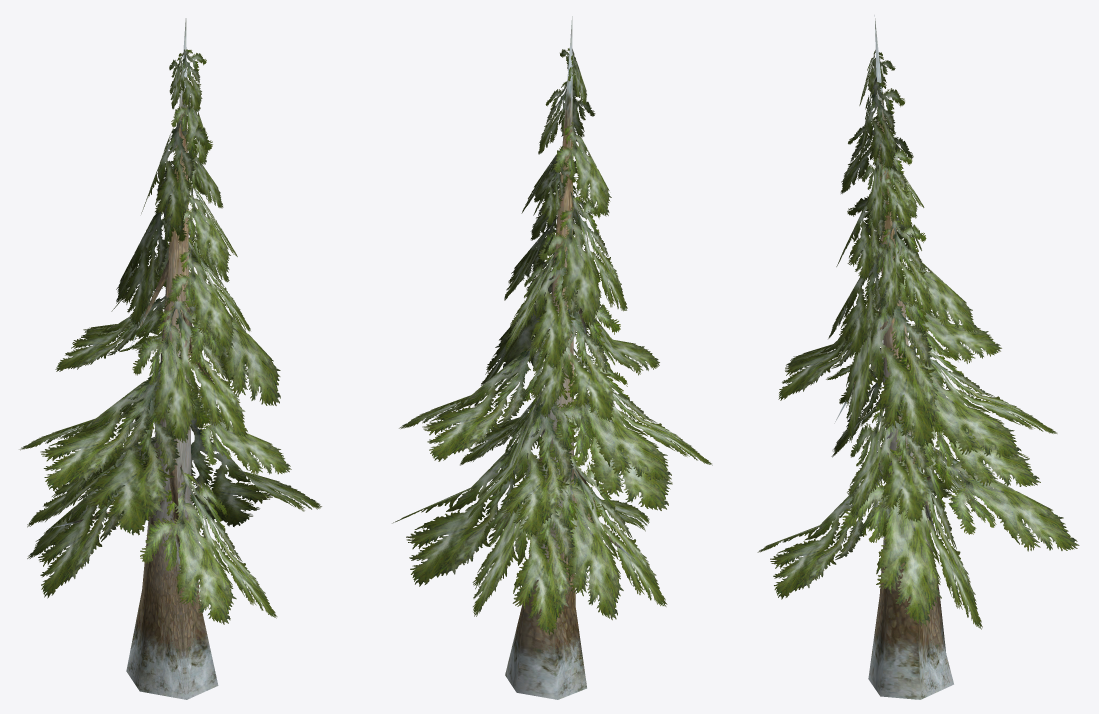
File: environment_Tree_xuesong_001_b.FBX
3 renders of one model, left to right at view 1: azimuth 30°, elevation 25°; view 2: azimuth 150°, elevation 25°; view 3: azimuth 270°, elevation 25°, orthographic. The views are drawn at different scales.
Parts seen in each view (by area): view 1: environment_Tree_xuesong_001_a, environment_Tree_xuesong_001_b; view 2: environment_Tree_xuesong_001_a, environment_Tree_xuesong_001_b; view 3: environment_Tree_xuesong_001_a, environment_Tree_xuesong_001_b.
Boxes of the visible parts, x1,y1,x2,y2 form: environment_Tree_xuesong_001_a: [19, 49, 321, 624]; environment_Tree_xuesong_001_b: [49, 18, 218, 699]; environment_Tree_xuesong_001_a: [392, 48, 712, 635]; environment_Tree_xuesong_001_b: [496, 16, 635, 699]; environment_Tree_xuesong_001_a: [757, 50, 1079, 629]; environment_Tree_xuesong_001_b: [834, 15, 953, 699].
Bounding box in the file's own units: 455 × 965 × 442.
2 materials, 2 textured.
